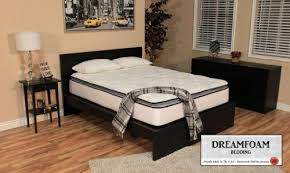bed-matress: (68, 58, 229, 126)
